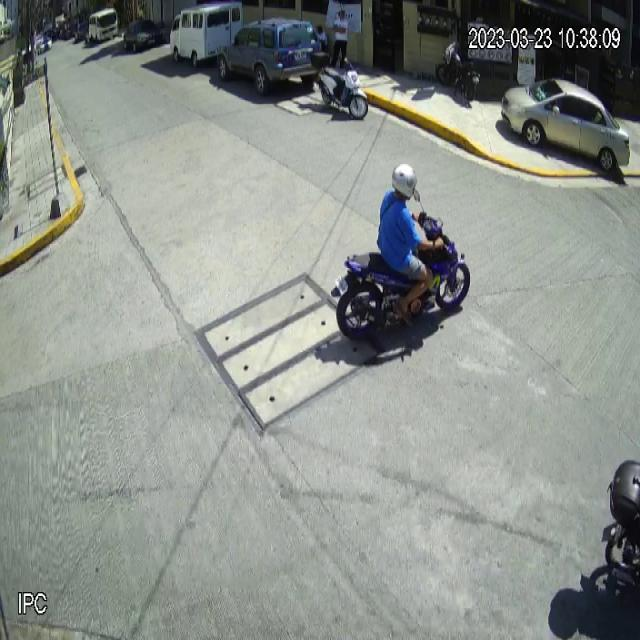Car: (501, 79, 631, 172), (217, 16, 323, 96)
Motorcycle: (333, 195, 472, 344), (309, 49, 369, 120)
Van: (169, 0, 243, 67)
